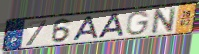6: (51, 17, 73, 43)
7: (25, 19, 48, 47)
A: (95, 12, 126, 39), (71, 15, 100, 41)
G: (125, 10, 151, 37)
N: (151, 6, 178, 35)
